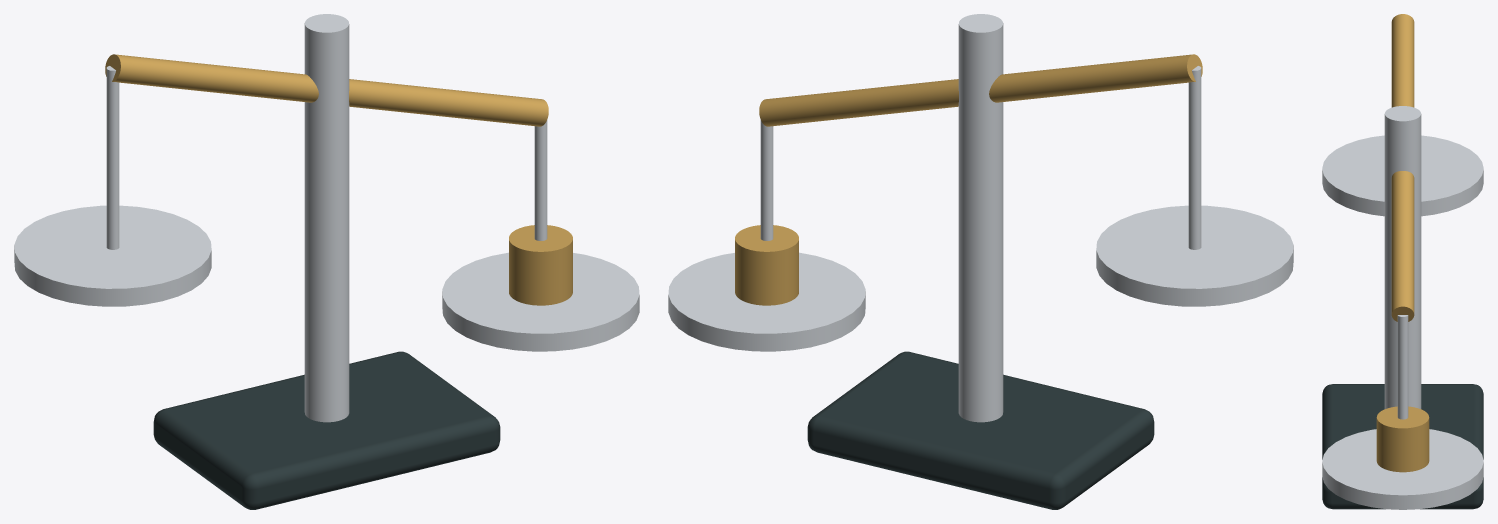
Rendered from balance.glb.
3 views of the same model, side by side, from view 1: azimuth 30°, elevation 25°; view 2: azimuth 150°, elevation 25°; view 3: azimuth 270°, elevation 25° (orthographic). The views are drawn at different scales.
Visible parts, largest first — view 1: balance; view 2: balance; view 3: balance.
Boxes of the visible parts, x1,y1,x2,y2 form: balance: [14, 14, 639, 509]; balance: [668, 14, 1293, 509]; balance: [1322, 14, 1483, 509].
Size of the model in its own units: 1.4 by 0.9932 by 0.4.
